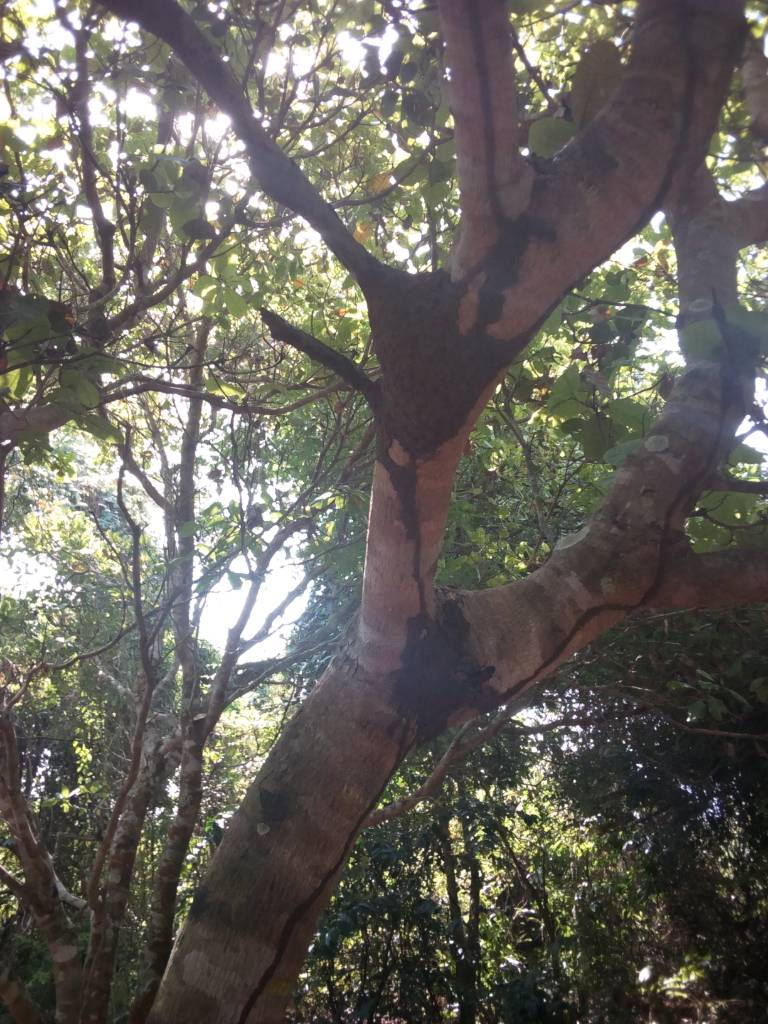Termites: (368, 253, 479, 452), (246, 880, 316, 1017), (407, 622, 483, 727)
